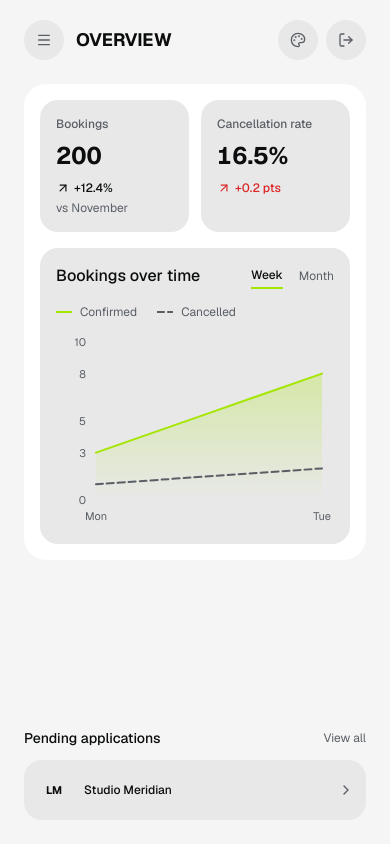
Test: AdminDashboardDesign1 › opens a labelled navigation drawer for narrow viewports
The image size is (390, 844).
Click the button named "Navigation".
click(44, 40)  # box [24,20,64,60]
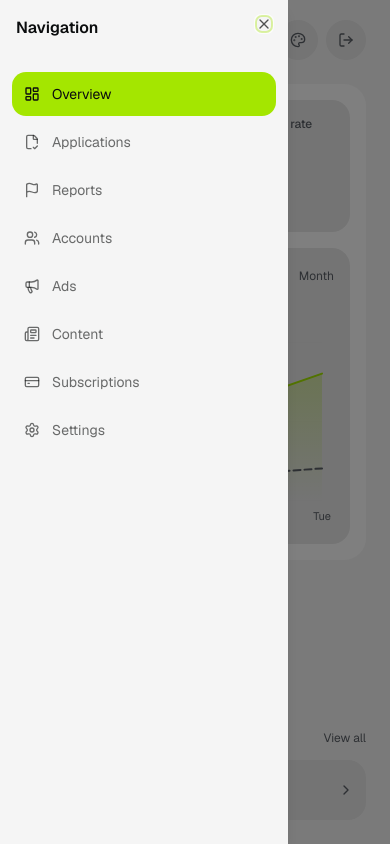
Result: the link "Accounts" is shown at [24,229,112,247]
